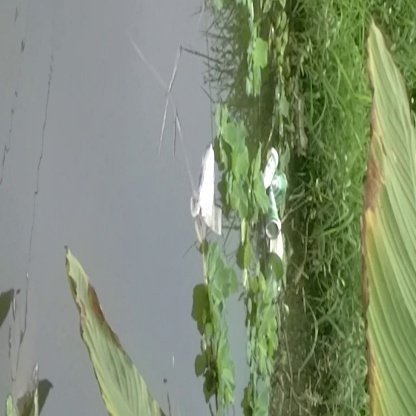leaf: (59, 249, 172, 416)
